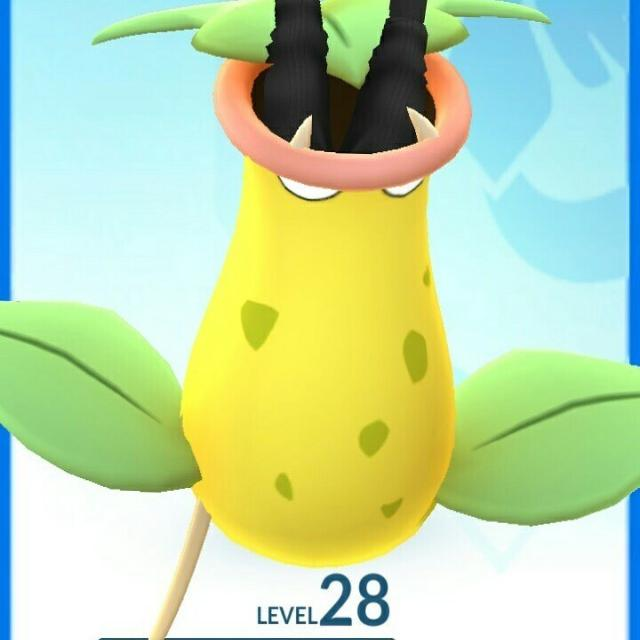Victreebel: (175, 0, 485, 561)
